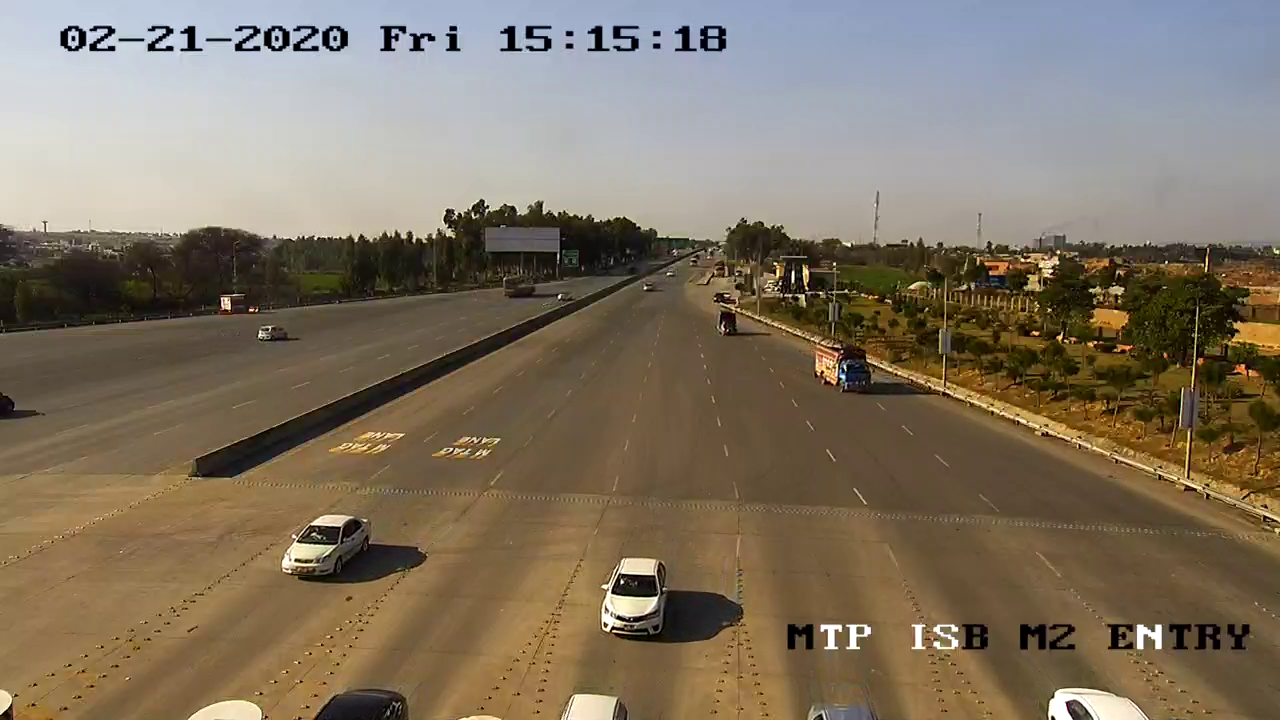f1: (592, 551, 675, 647), (275, 508, 380, 583)
